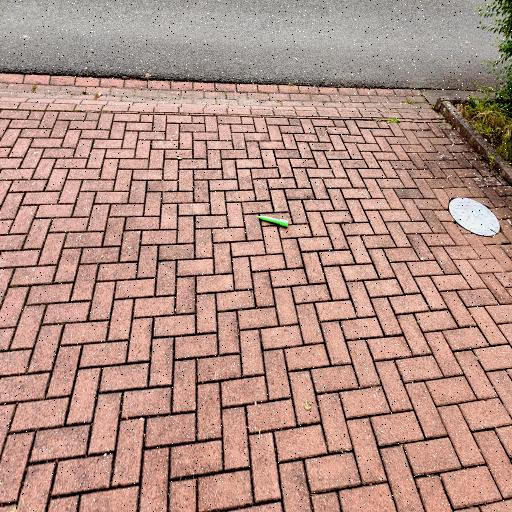Probe-Detection: (258, 216, 289, 227)
